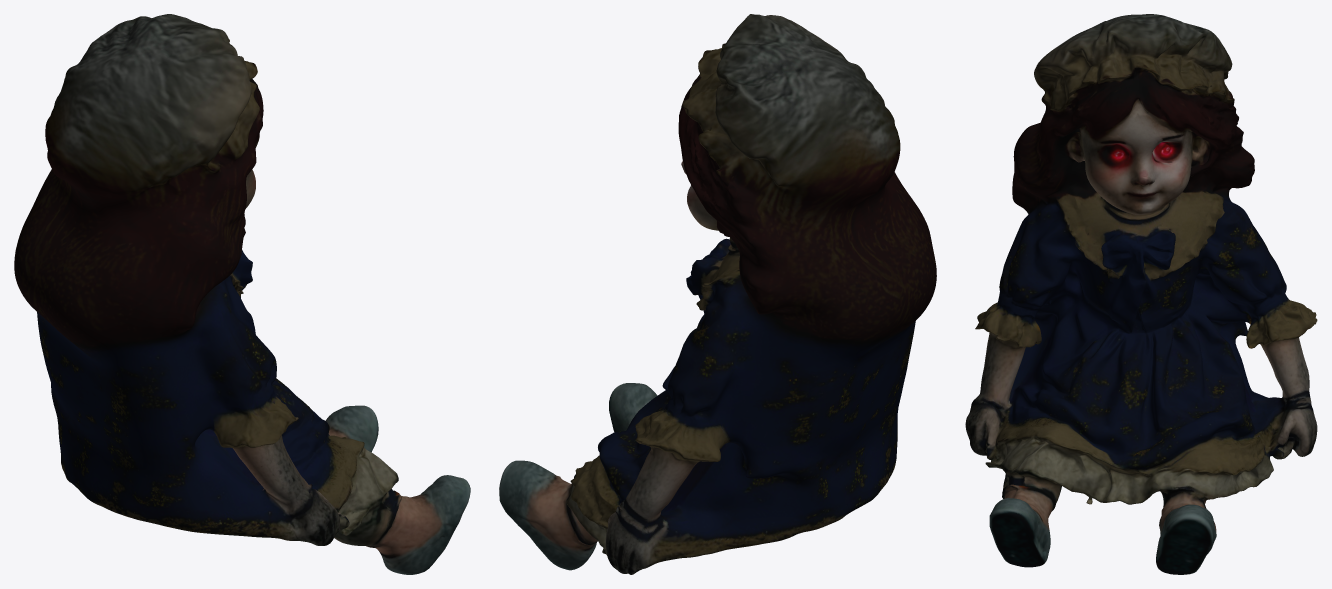
File: muñeca2.fbx
3 views of the same model, side by side, from view 1: azimuth 30°, elevation 25°; view 2: azimuth 150°, elevation 25°; view 3: azimuth 270°, elevation 25° (orthographic). The views are drawn at different scales.
Parts seen in each view (by area): view 1: tripo_node_05339342; view 2: tripo_node_05339342; view 3: tripo_node_05339342.
Part boxes in pixels (bbox=[...]): tripo_node_05339342: bbox=[14, 14, 470, 574]; tripo_node_05339342: bbox=[499, 14, 936, 574]; tripo_node_05339342: bbox=[965, 14, 1317, 574].
Bounding box in the file's own units: 0.6919 × 1 × 0.6554.
Materials: 1 (1 with a texture image).
